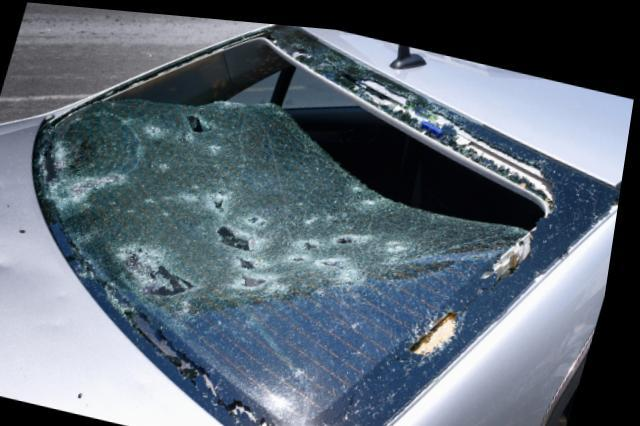dent: (0, 253, 24, 269), (0, 182, 6, 190)
glass shatter: (36, 20, 624, 426)
